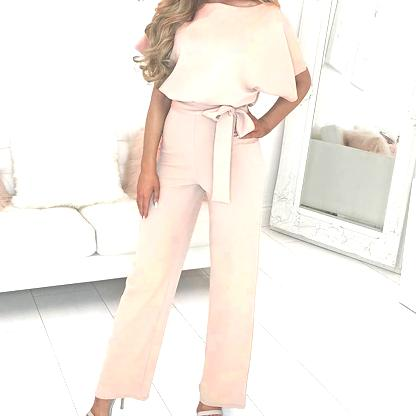dress: (84, 0, 306, 416)
